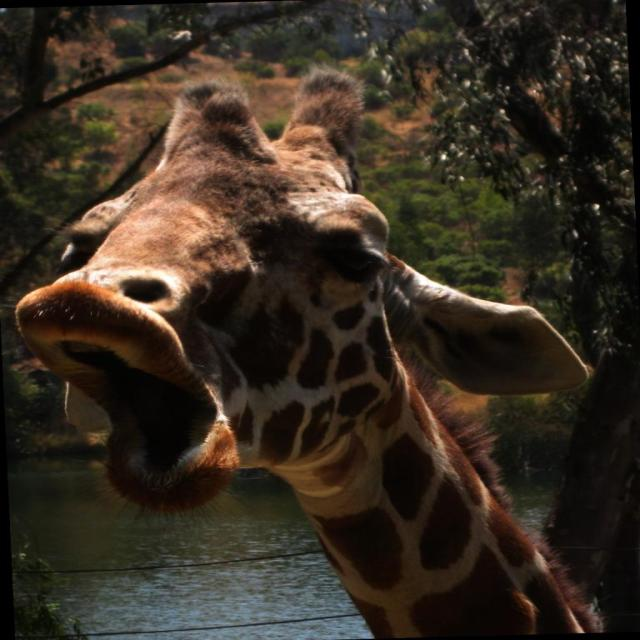Giraffe: (15, 61, 604, 638)
